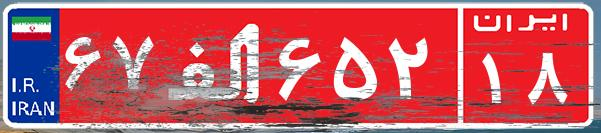1: (475, 38, 525, 113)
2: (385, 28, 445, 110)
5: (330, 28, 385, 110)
6: (273, 28, 330, 110), (57, 26, 110, 107)
7: (110, 28, 158, 105)
8: (525, 38, 570, 115)
الف: (158, 15, 273, 115)
